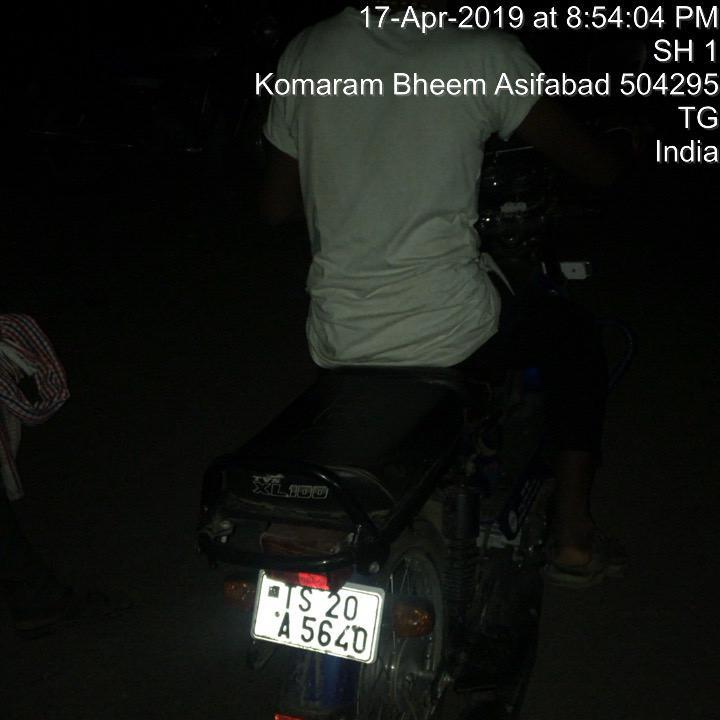plate: (234, 552, 397, 681)
